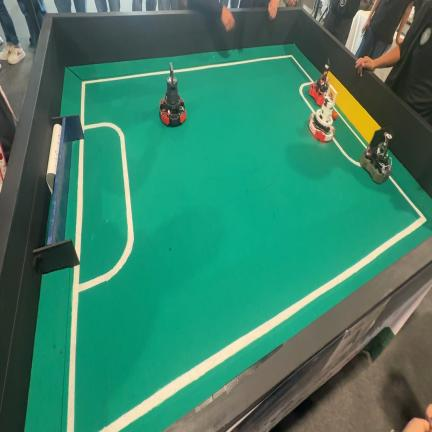cancha: (25, 45, 432, 432)
limites: (99, 177, 426, 432), (67, 84, 134, 432), (179, 55, 295, 72), (83, 71, 164, 85), (75, 139, 84, 263), (338, 113, 367, 148), (332, 137, 360, 166), (288, 55, 310, 79), (299, 83, 314, 112), (299, 82, 313, 110), (299, 66, 309, 77), (400, 190, 408, 200), (389, 177, 397, 185), (411, 204, 417, 211), (333, 138, 336, 143)
pelota: (333, 112, 337, 120)
porteria: (33, 115, 83, 274), (328, 72, 380, 145)
robot: (360, 127, 392, 184), (159, 63, 186, 126), (308, 84, 337, 142), (309, 64, 329, 106)
